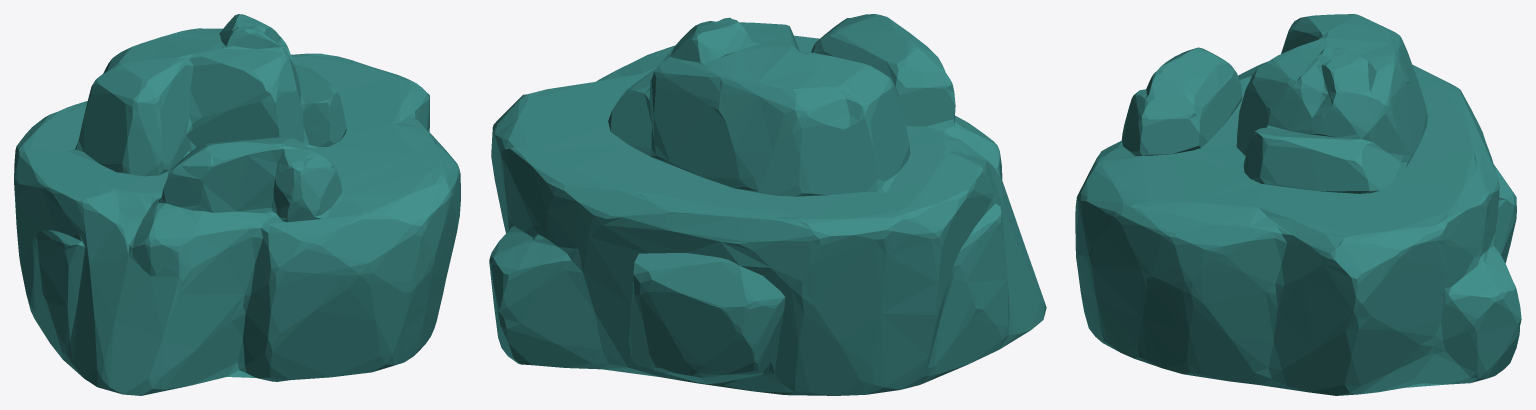
File: SM_Rock_Sea_Huge_Flat_A.fbx
3 views of the same model, side by side, from view 1: azimuth 30°, elevation 25°; view 2: azimuth 150°, elevation 25°; view 3: azimuth 270°, elevation 25° (orthographic). The views are drawn at different scales.
Visible parts, largest first — view 1: rock-sea-huge-flat-a; view 2: rock-sea-huge-flat-a; view 3: rock-sea-huge-flat-a.
Boxes of the visible parts, x1,y1,x2,y2 form: rock-sea-huge-flat-a: [14, 14, 460, 395]; rock-sea-huge-flat-a: [489, 14, 1046, 395]; rock-sea-huge-flat-a: [1075, 14, 1521, 395].
Size of the model in its own units: 20.63 by 12.72 by 19.11.
